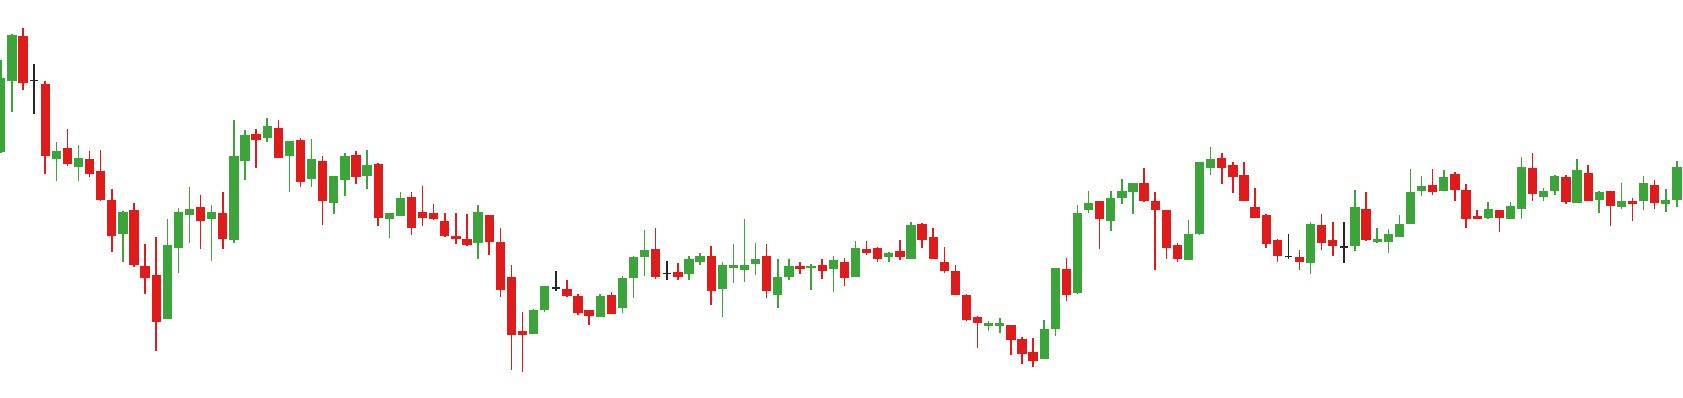sell: (1140, 146, 1240, 232)
